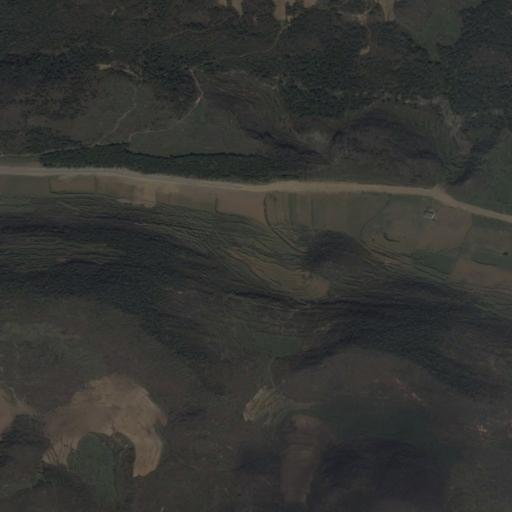landslide: (41, 374, 169, 476)
